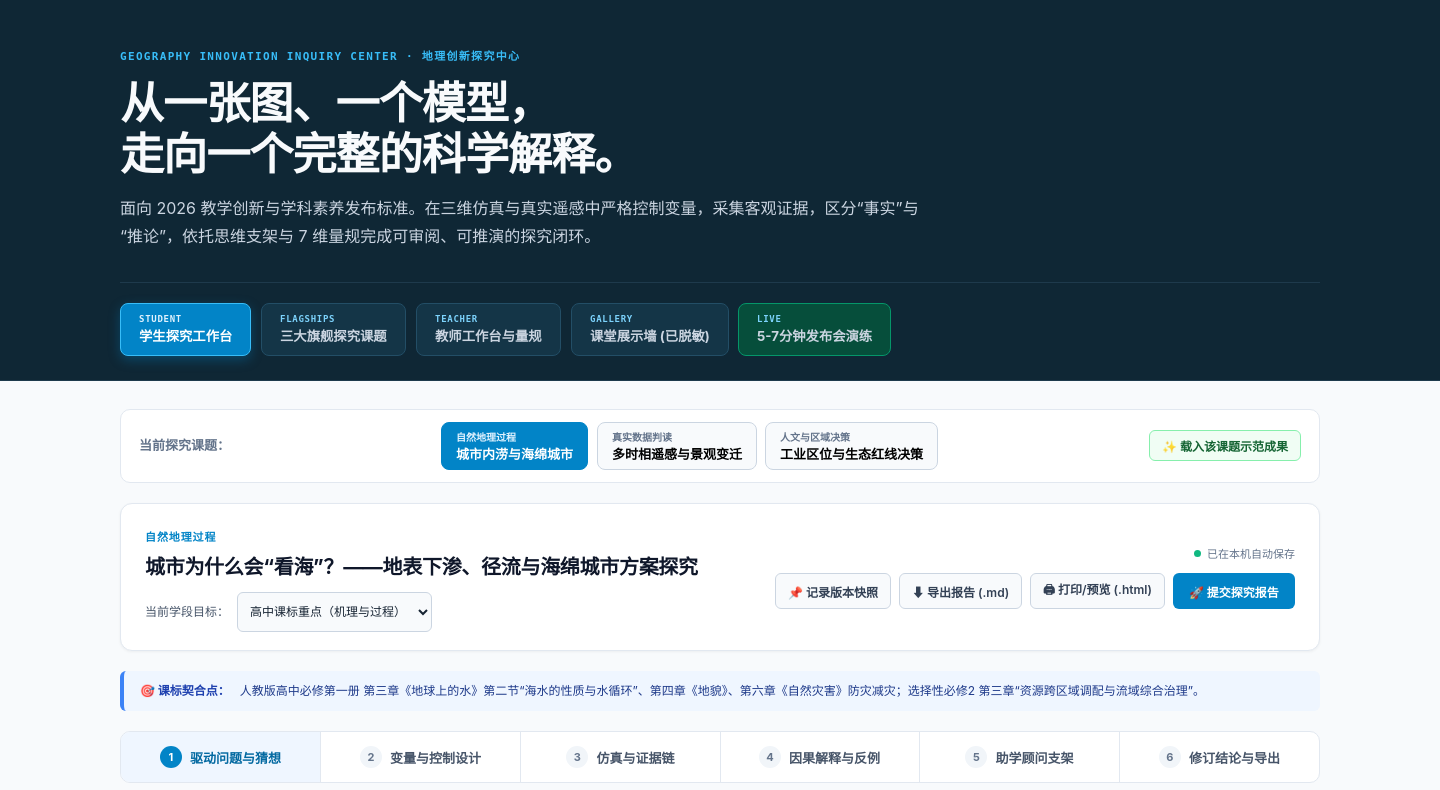
Scenario: InquiryStudio Hub Page › switches to showcase wall tab
Click the tab with class "tab-btn" showing "GALLERY 课堂展示墙 (已脱敏)" at (649, 329), box [570,303,728,356]
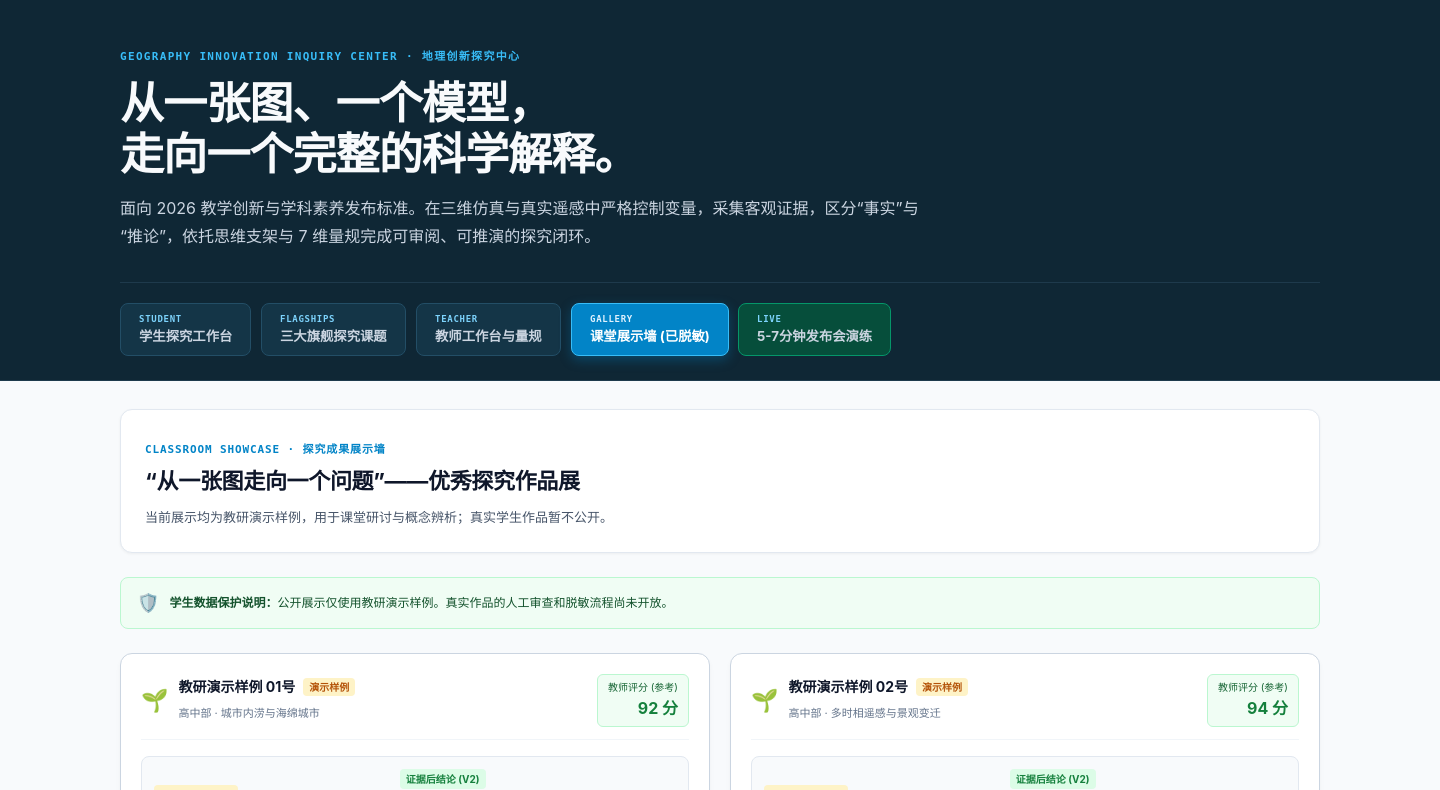
Expected: the text "探究成果展示墙" is shown, [145,443,386,456]
Expected: the text "真实学生作品暂不公开" is shown, [145,509,613,525]
